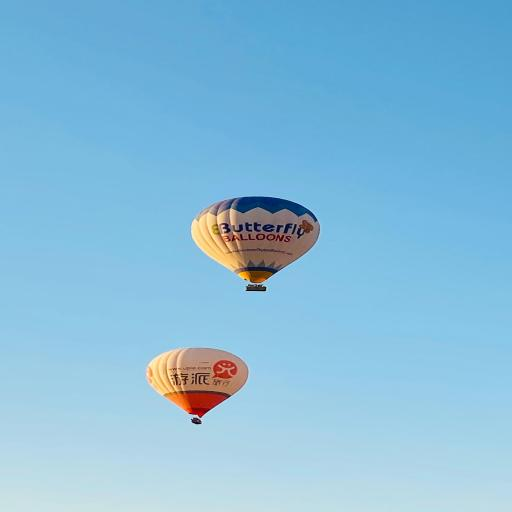hot air ballon: (182, 193, 326, 298), (146, 343, 252, 427)
